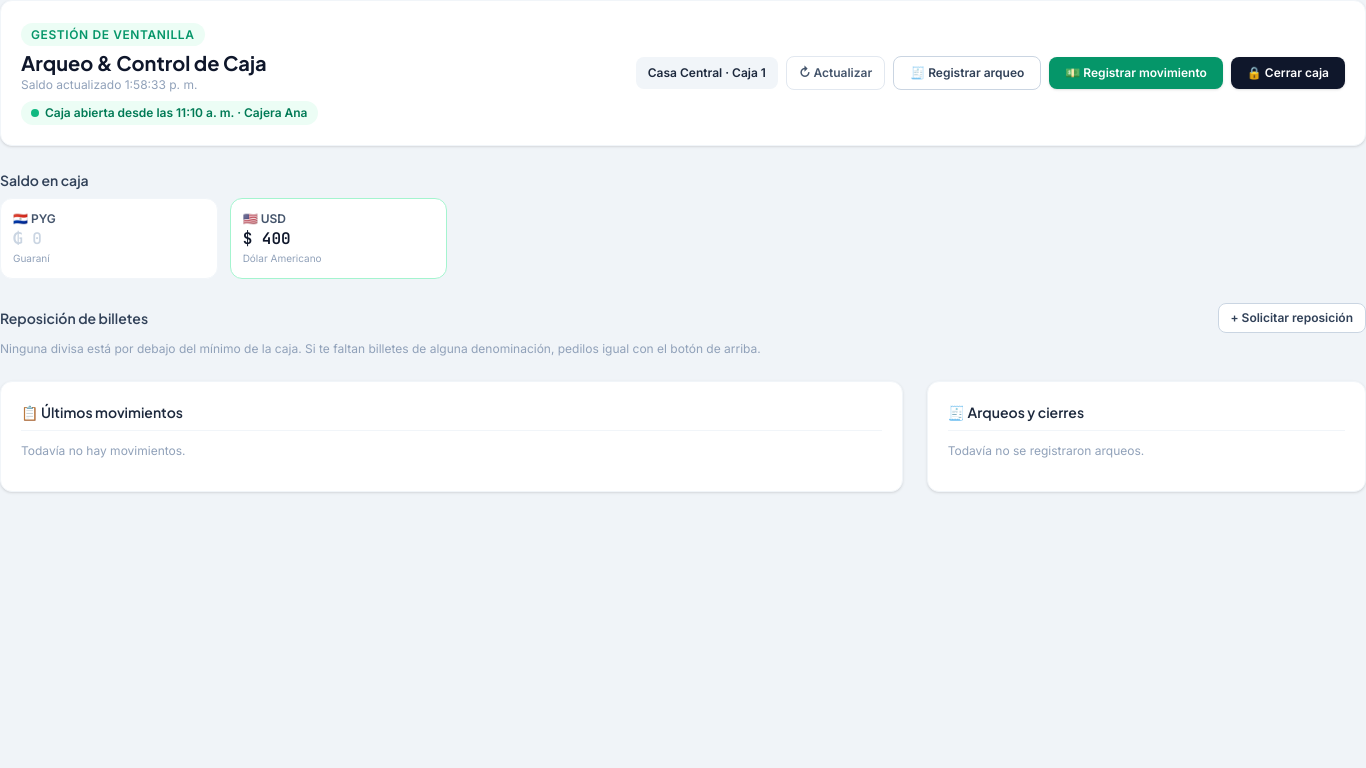
Test case: CashCountView · saldo por divisa (PI-44 / PI-78) › no deja retirar más que el saldo de la divisa
The image size is (1366, 768).
expect the text "$ 400" is shown: met, box [243,228,291,249]
Click the button "💵 Registrar movimiento" at (1136, 73), box [1049,57,1223,89]
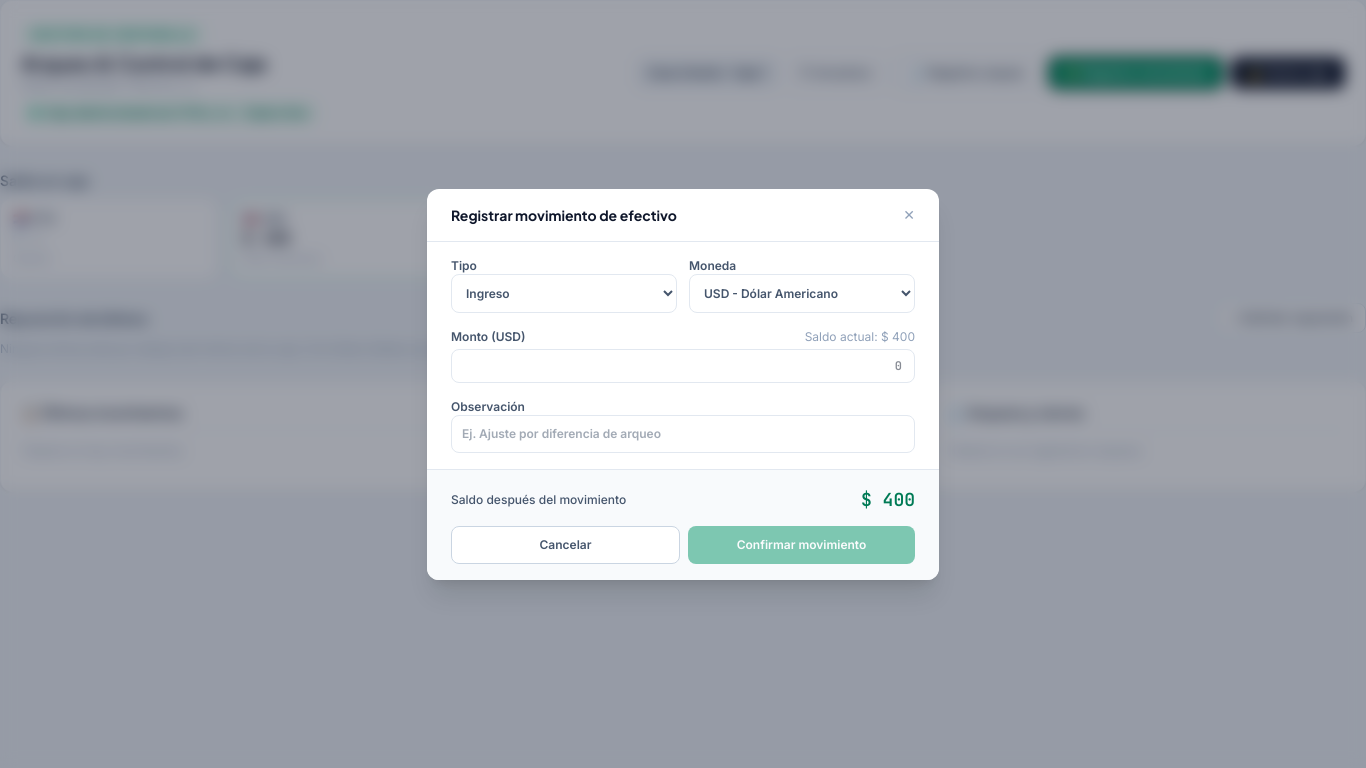
Select "Retiro" in the dropdown labelled "Tipo" at (564, 293), box [451,274,677,312]
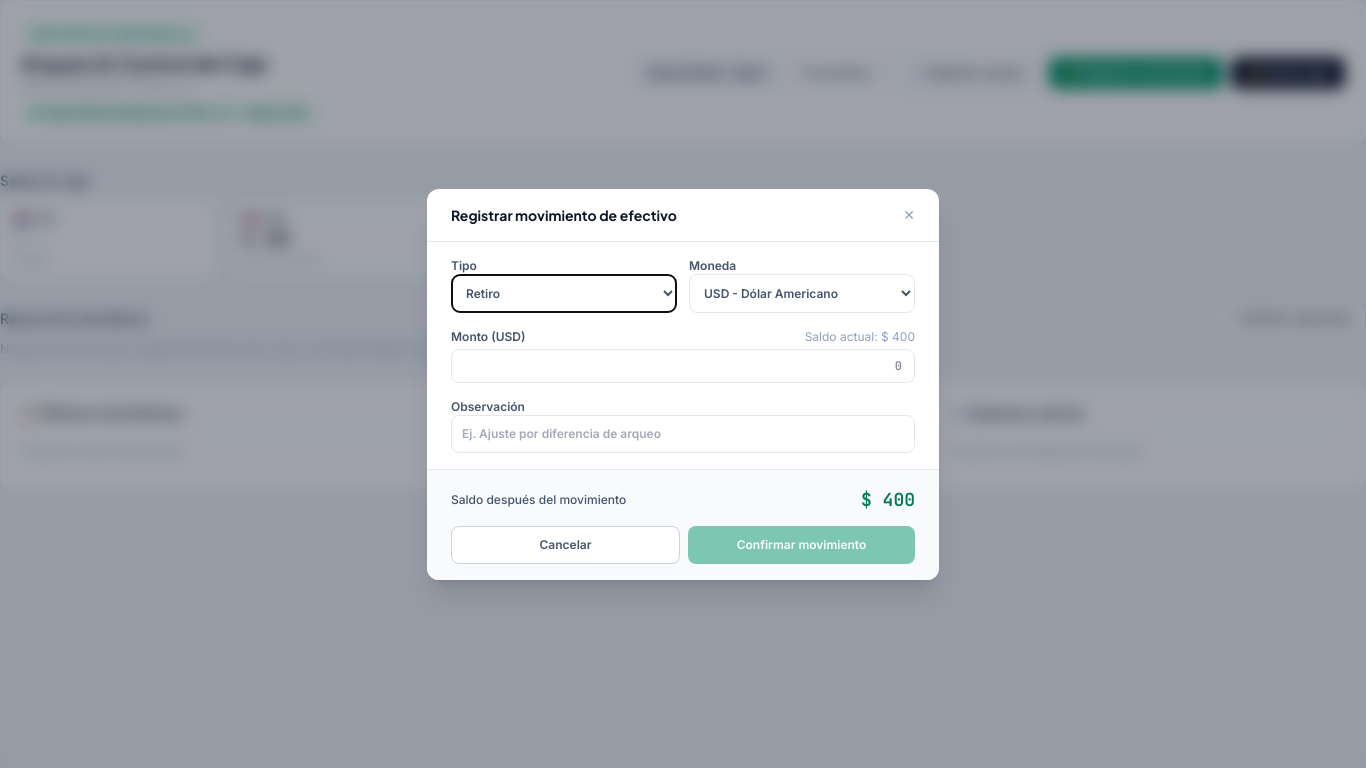
Type "400.01" into the number field labelled "Monto (USD)" at (683, 366), box [451,348,915,382]
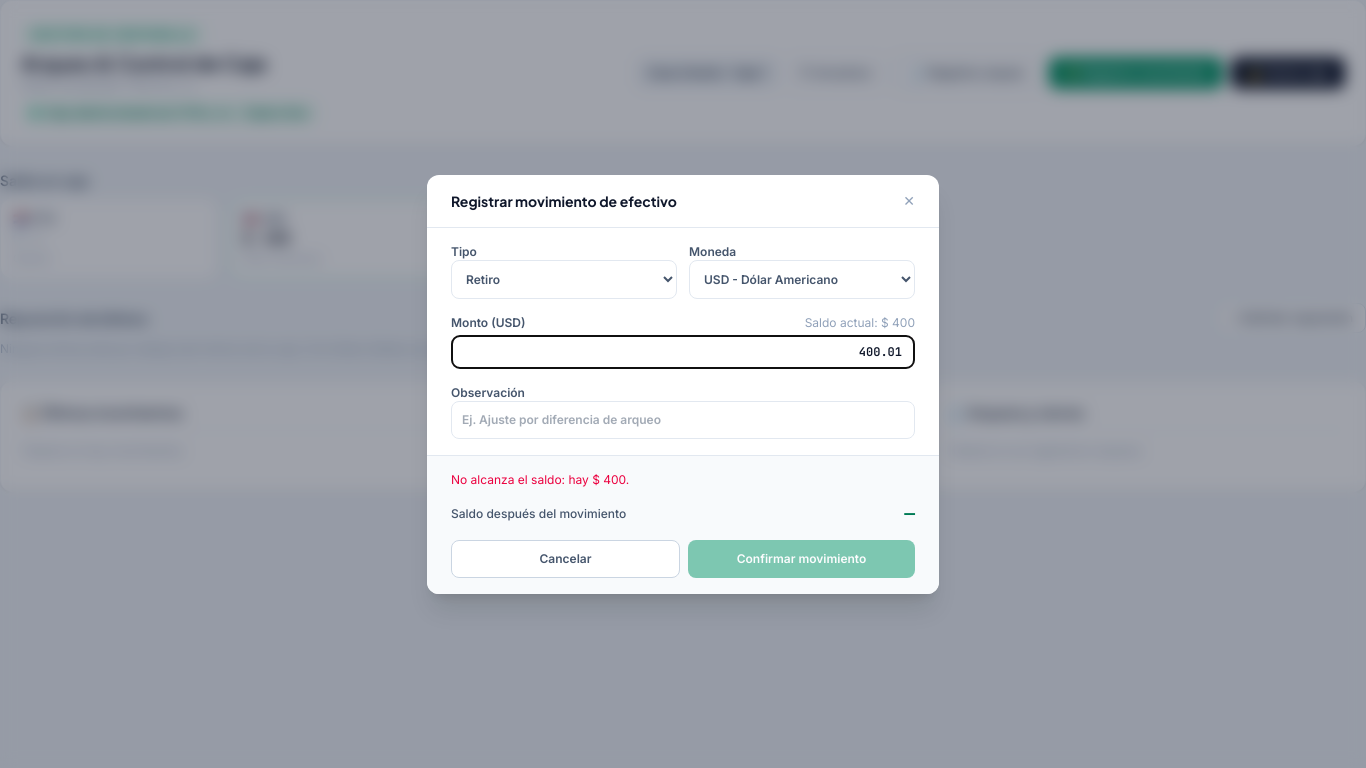
expect the button "Confirmar movimiento" is disabled: met, box [688,540,915,578]
expect the text "No alcanza el saldo: hay $ 400." is shown: met, box [451,472,629,486]
expect the text with test id "saldo-despues" reads "—": met, box [904,502,915,524]
Clear the number field labelled "Monto (USD)" at (683, 352), box [451,334,915,368]
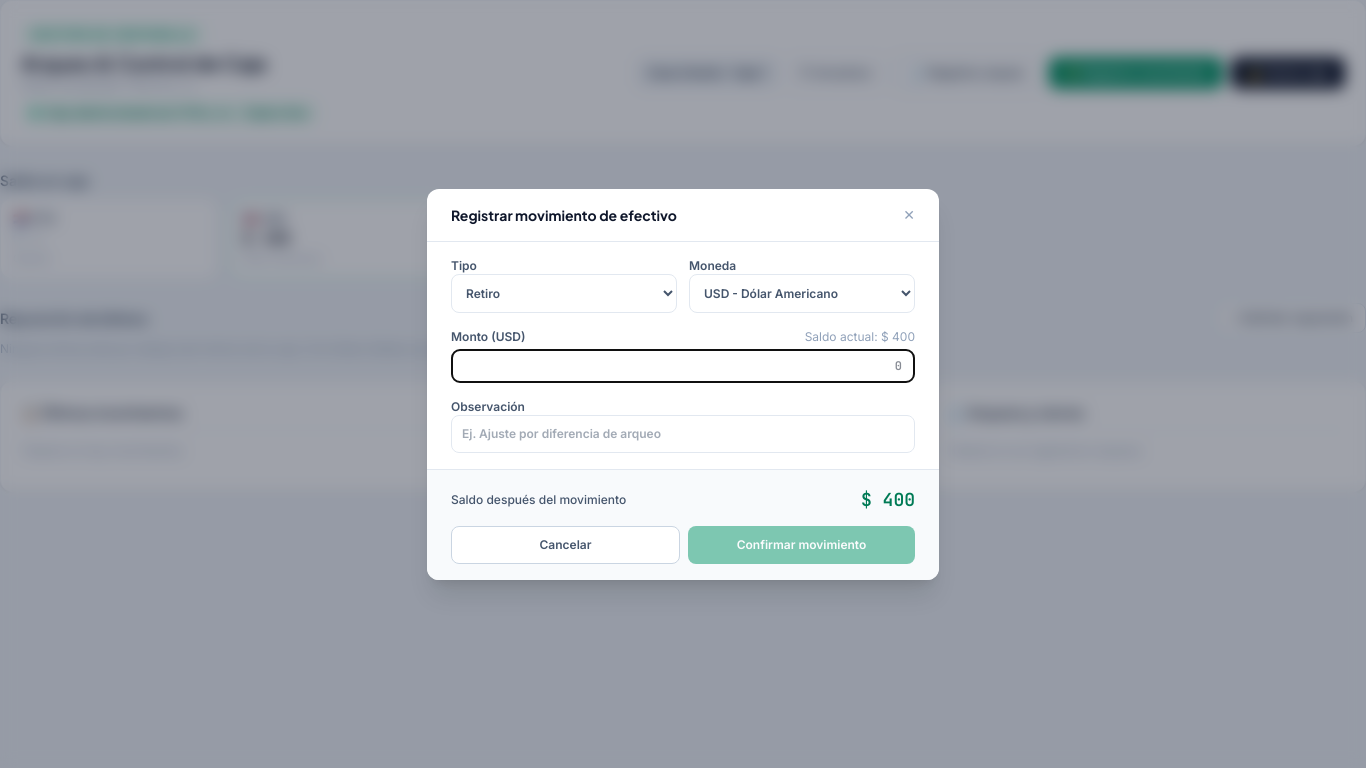
Type "400" into the number field labelled "Monto (USD)" at (683, 366), box [451,348,915,382]
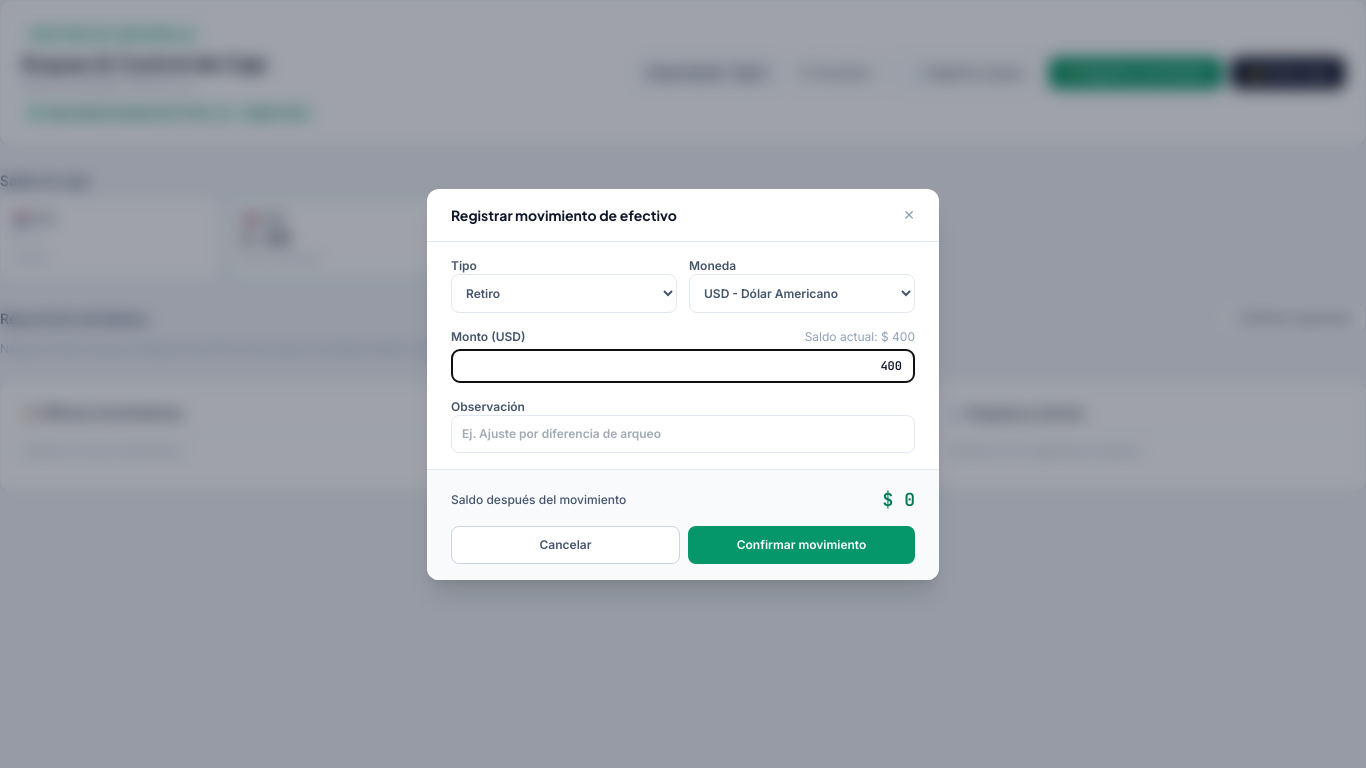
expect the button "Confirmar movimiento" is enabled: met, box [688,526,915,564]
